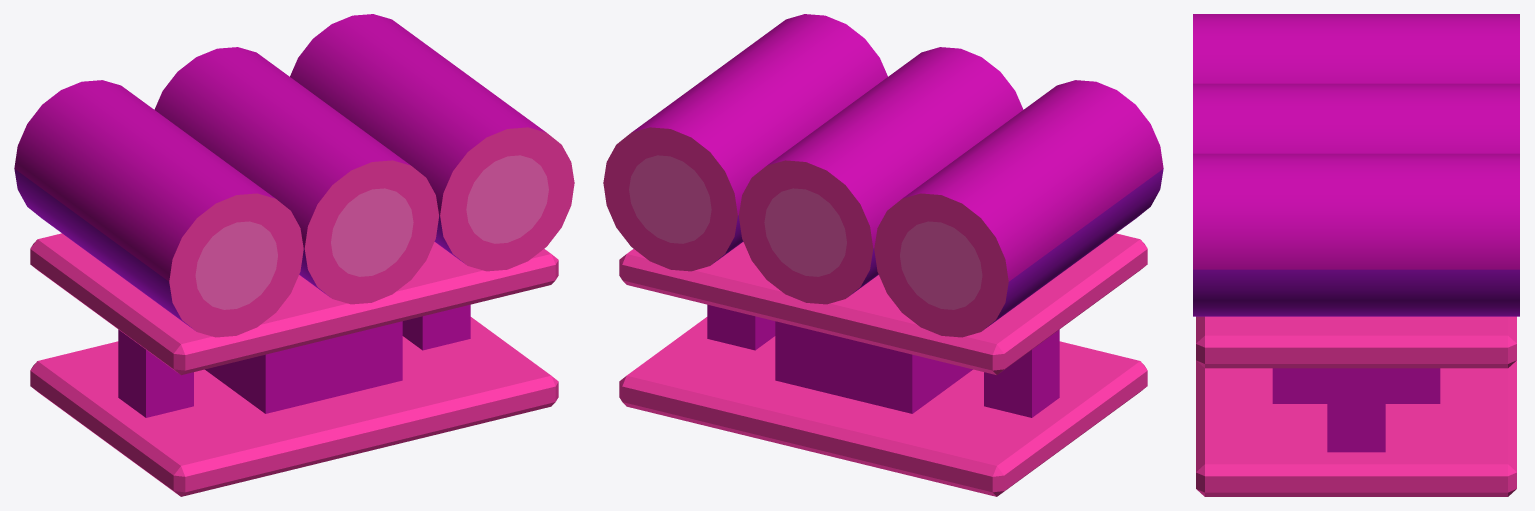
Rendered from Building_023.fbx.
The picture shows the model from 3 angles, left to right: view 1: azimuth 30°, elevation 25°; view 2: azimuth 150°, elevation 25°; view 3: azimuth 270°, elevation 25°; orthographic projection. The views are drawn at different scales.
Parts seen in each view (by area): view 1: Building_023; view 2: Building_023; view 3: Building_023.
Boxes of the visible parts, bbox=[...] form: Building_023: bbox=[14, 14, 574, 496]; Building_023: bbox=[603, 14, 1163, 496]; Building_023: bbox=[1193, 14, 1519, 496].
Size of the model in its own units: 15.36 by 10.65 by 10.21.
